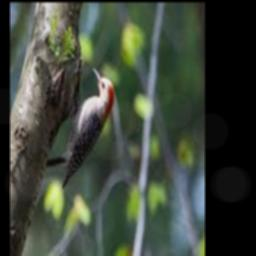Woodpecker: (45, 65, 114, 188)
